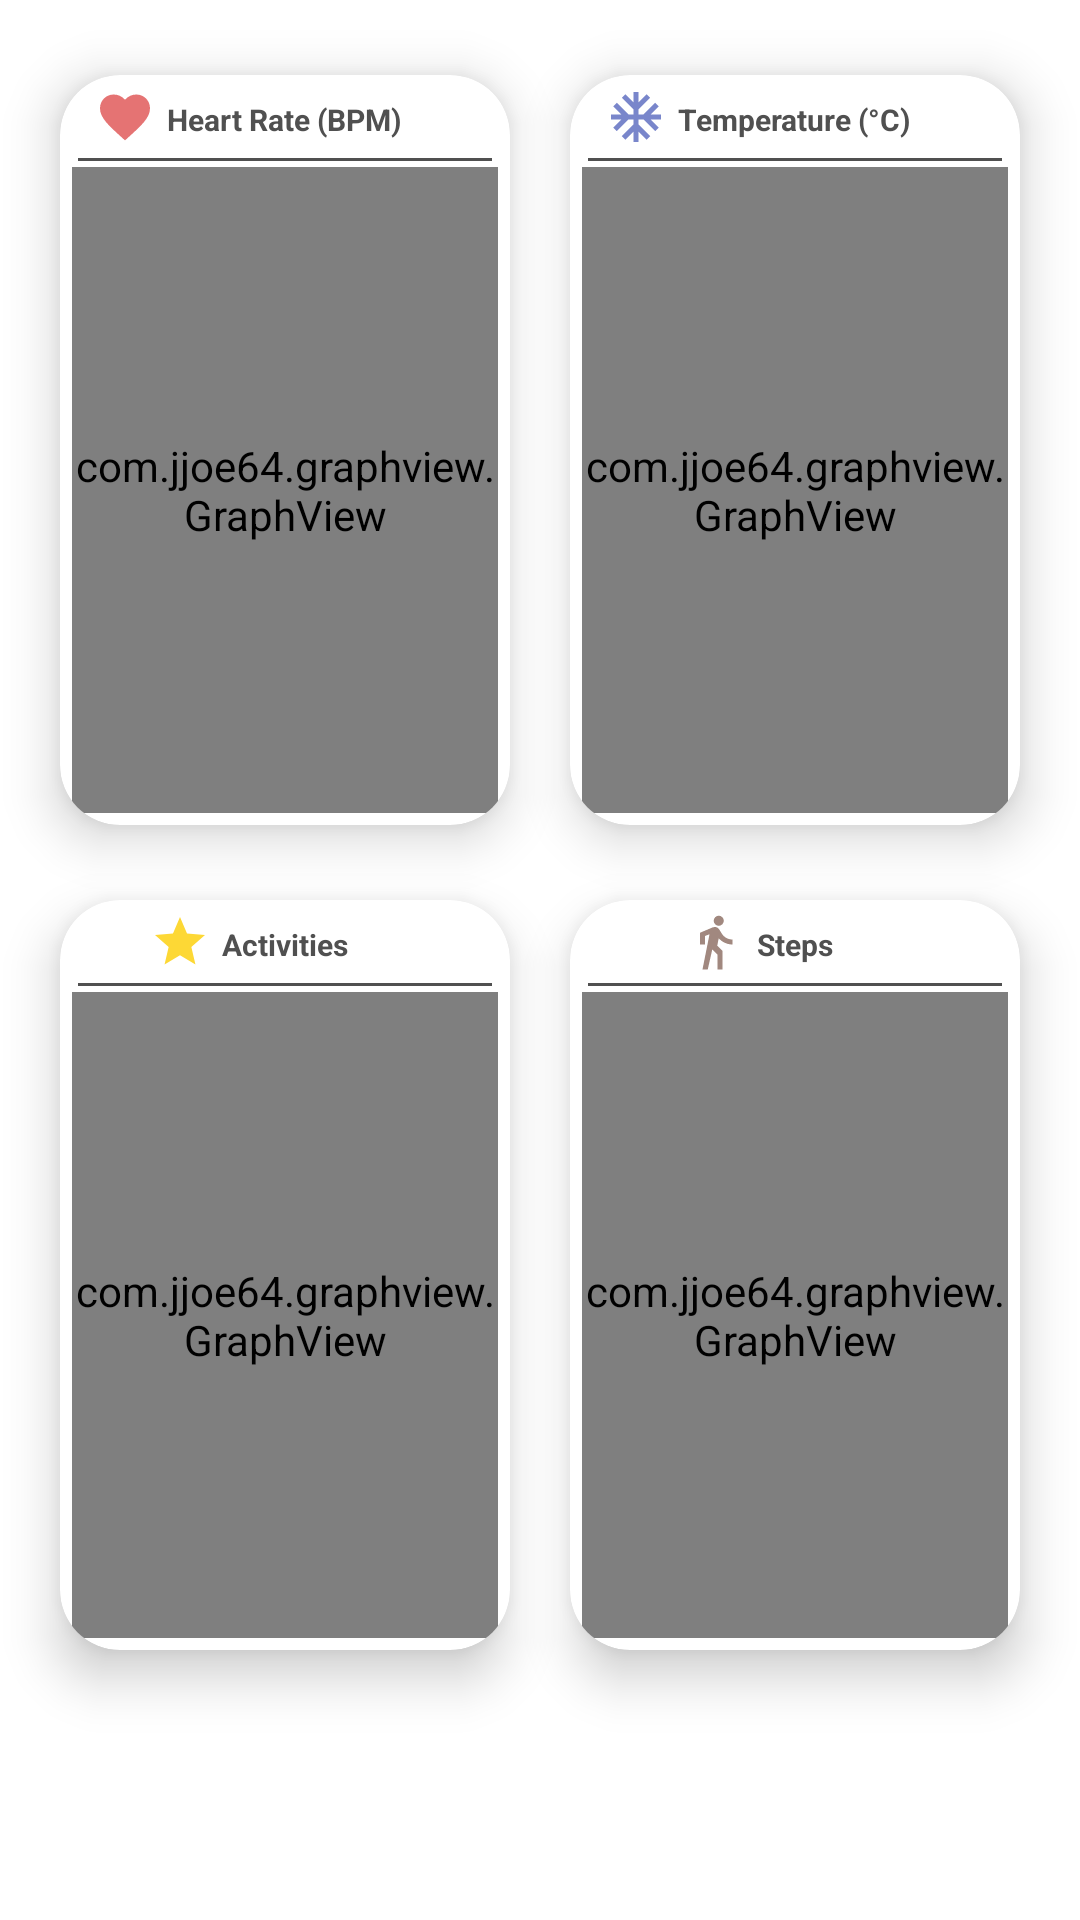

Icon click points for this 1080×1920 phone screenshot, format (x=x, y=y):
ac unit: (x=636, y=117)
directions walk: (x=716, y=942)
favorite: (x=125, y=117)
star: (x=180, y=941)
